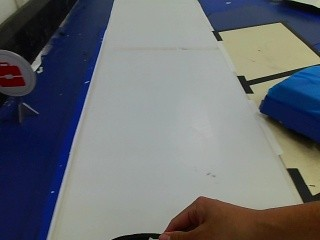company: (0, 49, 33, 102)
